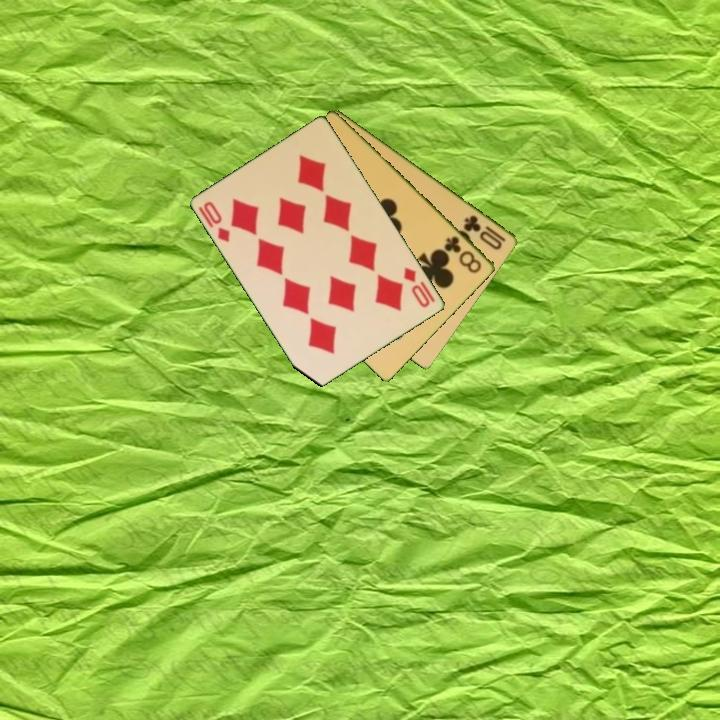10c: (460, 211, 509, 253)
10d: (195, 198, 233, 245), (400, 263, 433, 311)
8c: (441, 232, 485, 276)
